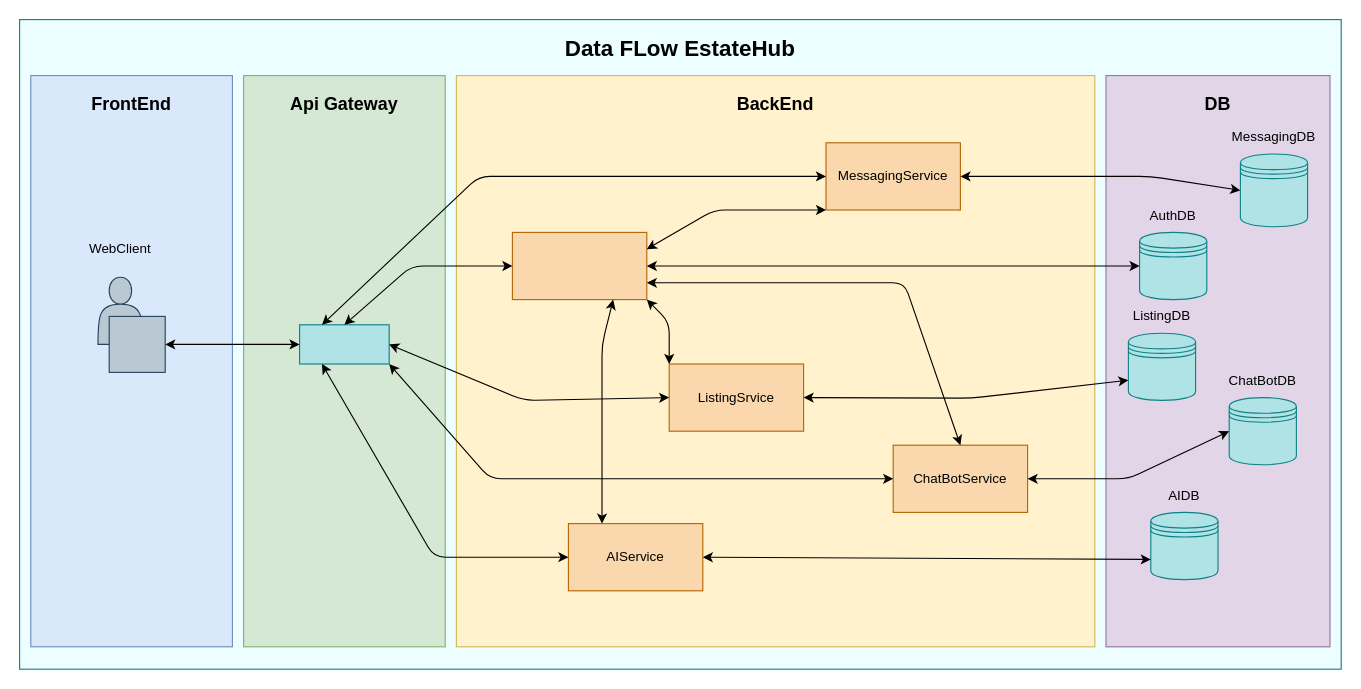
This 1361x689 diagram has some shape labels left out. The centre of each missing label's shape, as x and y in pixels:
"AuthService" belongs at point (579, 265).
"NGINX" belongs at point (343, 344).
